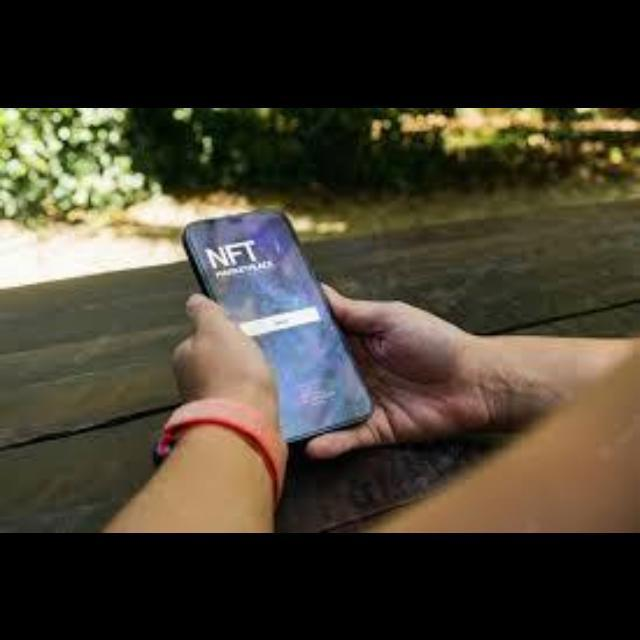PhoneUse: (180, 202, 378, 440)
